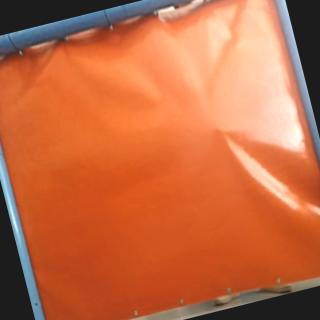Hit-hRxx: (208, 120, 236, 142)
